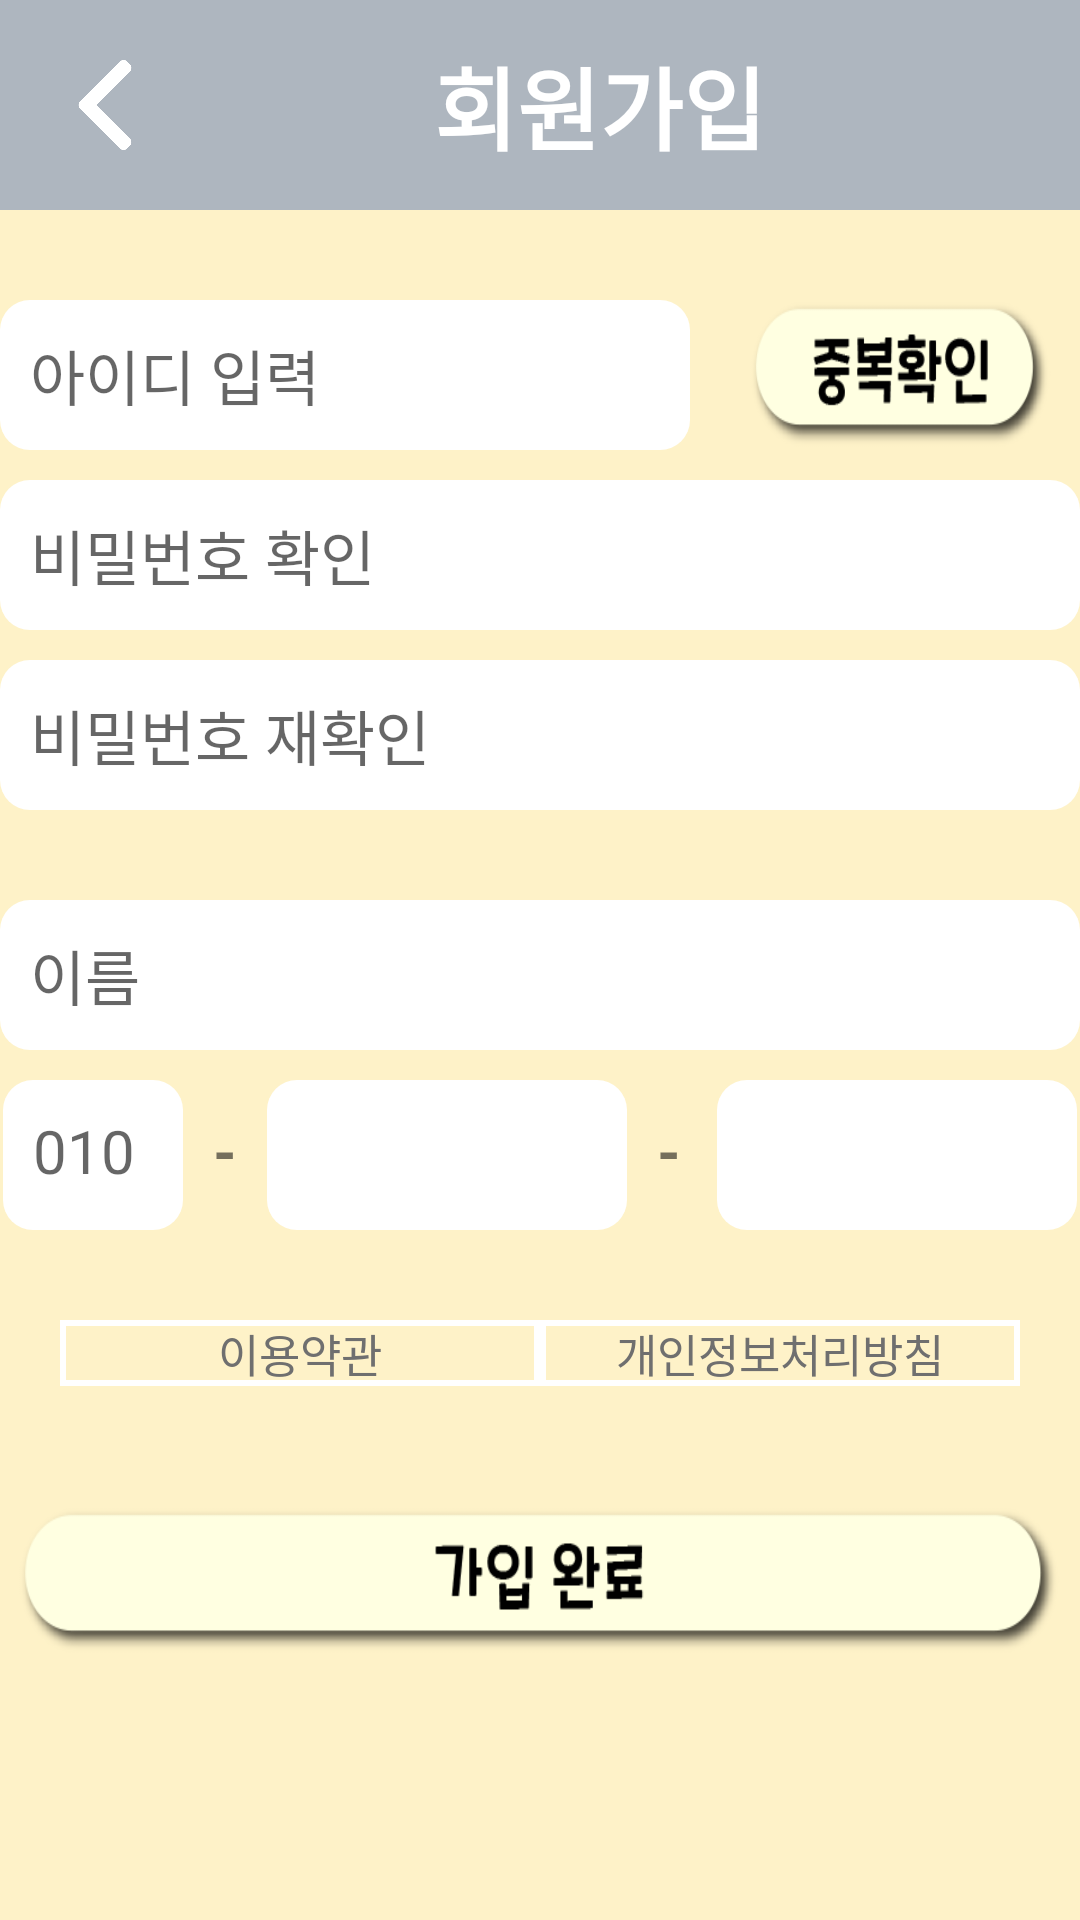

Point at icon controls on the screen. Image size 1080 x 1920, points as point (x, y).
leftarrow: point (105, 105)
